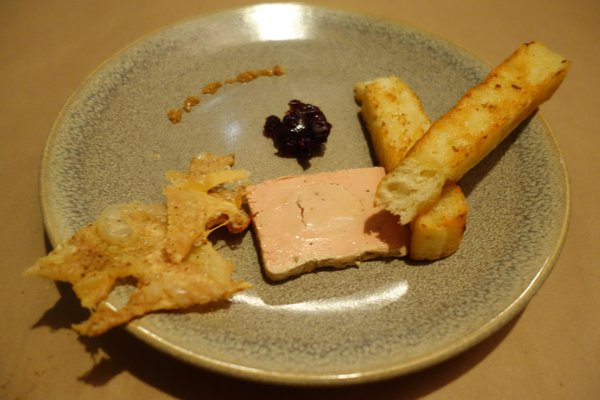pasta: (369, 39, 573, 224)
